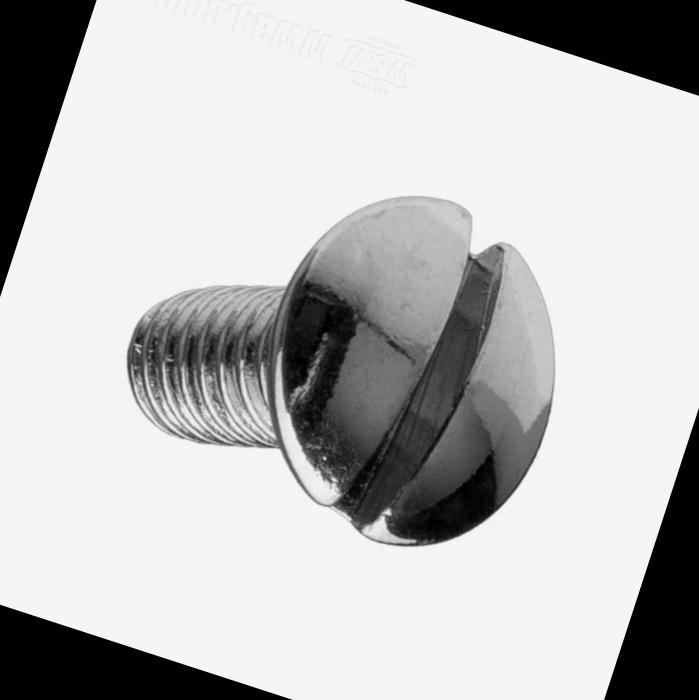screw: (213, 152, 616, 590)
